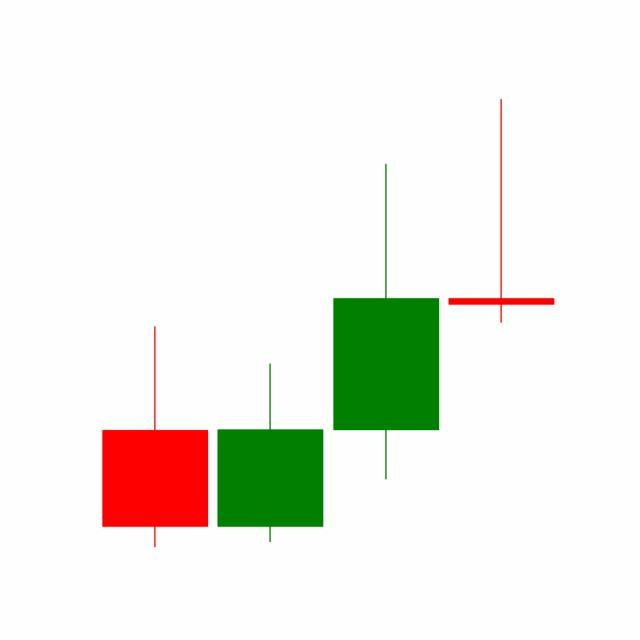Gravestone Doji: (444, 98, 560, 327)
